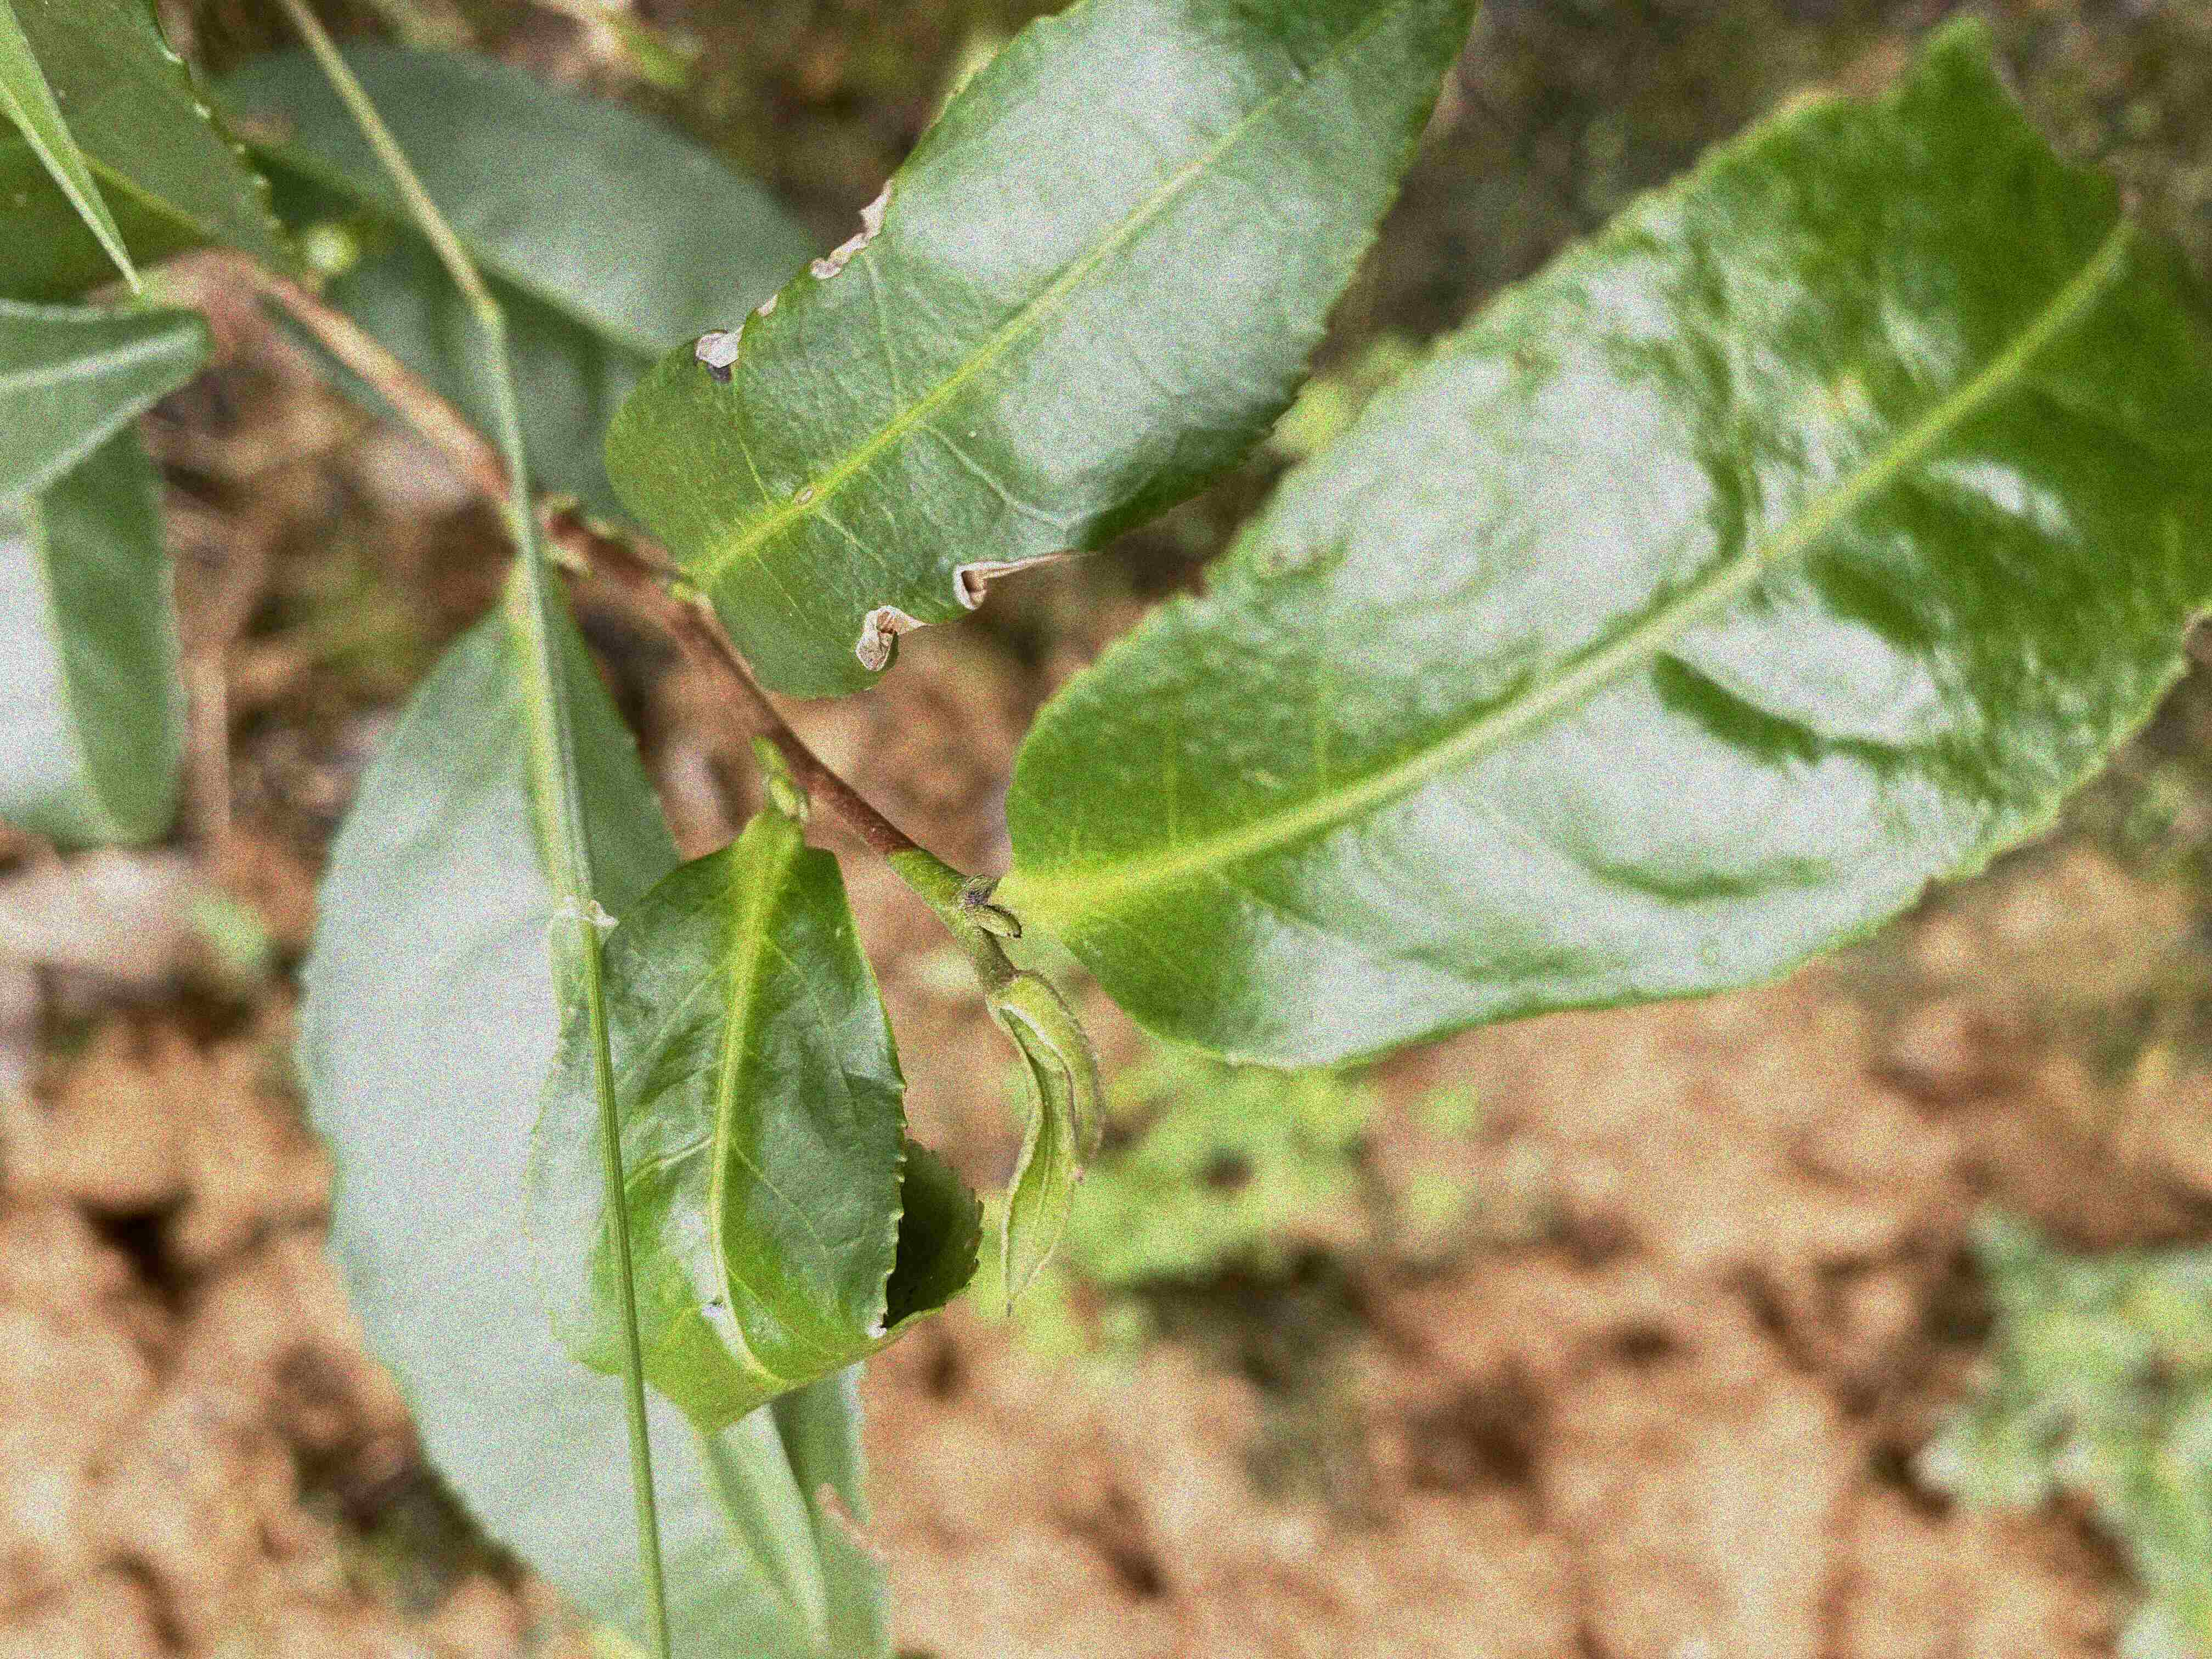chihuo_low: (1008, 23, 2209, 1073)
tanju_high: (601, 2, 1470, 699)
